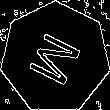M_SE: (23, 26, 87, 89)
